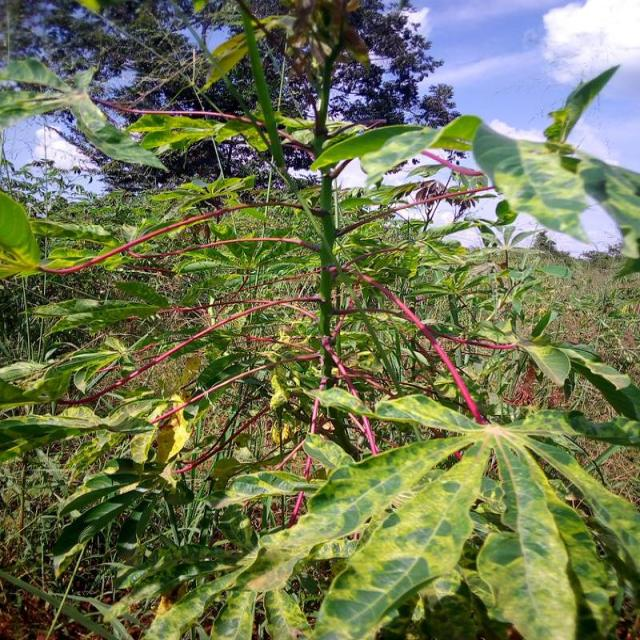cassava leaf: (310, 436, 490, 638)
